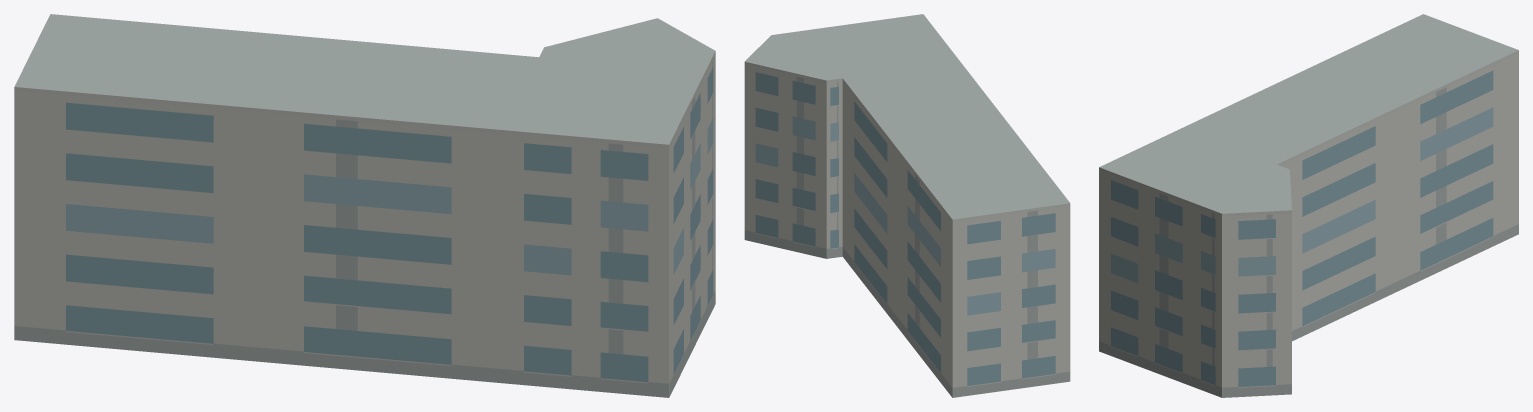
File: residential-a9e6969c-e8c5-41f4-b3d2-4f9f3adcb4d1.glb
The picture shows the model from 3 angles, left to right: view 1: azimuth 30°, elevation 25°; view 2: azimuth 150°, elevation 25°; view 3: azimuth 270°, elevation 25°; orthographic projection. The views are drawn at different scales.
Visible parts, largest first — view 1: residential-a9e6969c-e8c5-41f4-b3d2-4f9f3adcb4d1.tmp; view 2: residential-a9e6969c-e8c5-41f4-b3d2-4f9f3adcb4d1.tmp; view 3: residential-a9e6969c-e8c5-41f4-b3d2-4f9f3adcb4d1.tmp.
Boxes of the visible parts, left/top/right/bottom form: residential-a9e6969c-e8c5-41f4-b3d2-4f9f3adcb4d1.tmp: left=14, top=14, right=715, bottom=397; residential-a9e6969c-e8c5-41f4-b3d2-4f9f3adcb4d1.tmp: left=744, top=14, right=1070, bottom=397; residential-a9e6969c-e8c5-41f4-b3d2-4f9f3adcb4d1.tmp: left=1099, top=14, right=1518, bottom=397.
Size of the model in its own units: 35.49 by 15.25 by 31.52.
